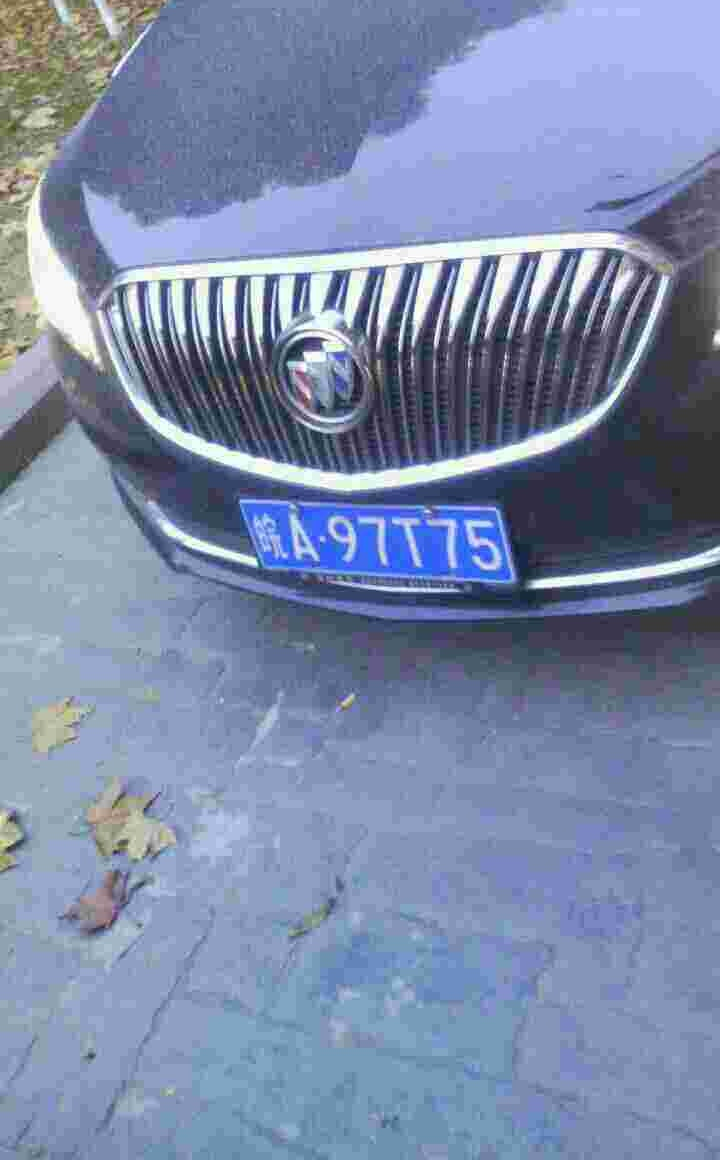plate: (233, 494, 523, 587)
